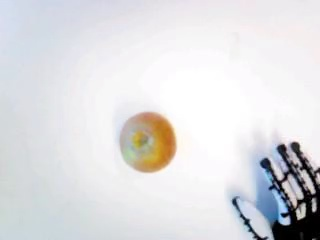apple: (116, 109, 175, 171)
hand: (230, 140, 320, 240)
